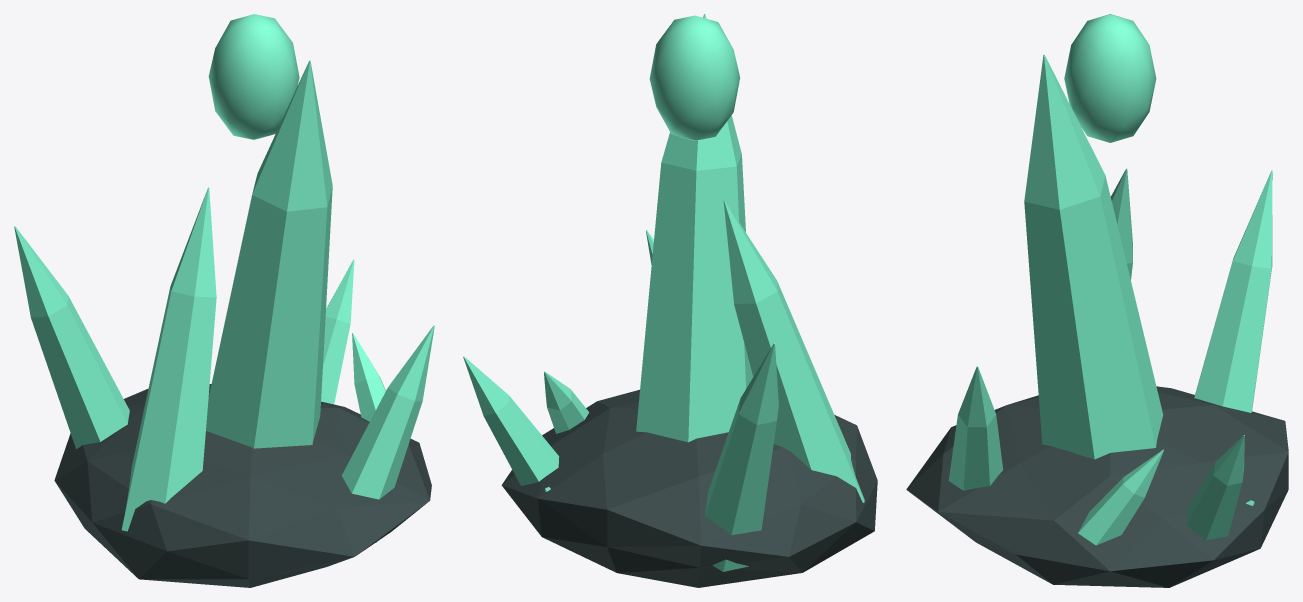
Rendered from aquamarine.glb.
The picture shows the model from 3 angles, left to right: view 1: azimuth 30°, elevation 25°; view 2: azimuth 150°, elevation 25°; view 3: azimuth 270°, elevation 25°; orthographic projection.
Visible parts, largest first — view 1: RockBase, AquaCore, AquaWave_0, AquaWave_1, AquaTear, AquaWave_2, AquaWave_3, AquaWave_4; view 2: RockBase, AquaCore, AquaWave_0, AquaTear, AquaWave_1, AquaWave_3, AquaWave_4; view 3: RockBase, AquaCore, AquaWave_1, AquaTear, AquaWave_2, AquaWave_3, AquaWave_4, AquaWave_0.
Part boxes in pixels (x1,y1,x2,y2): RockBase: (54,384,431,587); AquaCore: (206,60,332,448); AquaWave_0: (121,187,216,531); AquaWave_1: (14,226,129,449); AquaTear: (208,14,299,139); AquaWave_2: (341,325,434,542); AquaWave_3: (321,259,354,404); AquaWave_4: (352,333,385,421); RockBase: (501,389,877,587); AquaCore: (636,14,753,442); AquaWave_0: (723,200,864,502); AquaTear: (649,15,740,140); AquaWave_1: (705,343,778,571); AquaWave_3: (463,356,559,485); AquaWave_4: (544,371,589,433); RockBase: (906,386,1288,587); AquaCore: (1024,54,1163,459); AquaWave_1: (1194,170,1272,412); AquaTear: (1064,14,1156,142); AquaWave_2: (948,366,1003,490); AquaWave_3: (1186,435,1244,540); AquaWave_4: (1078,449,1163,545); AquaWave_0: (1111,168,1132,279).
Bounding box in the file's own units: 1.2 × 1.84 × 1.2.
